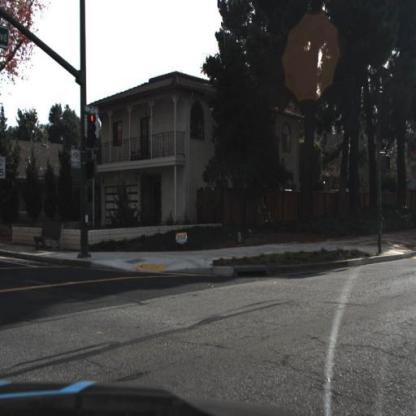trafficLight-Red: (87, 109, 99, 151)
